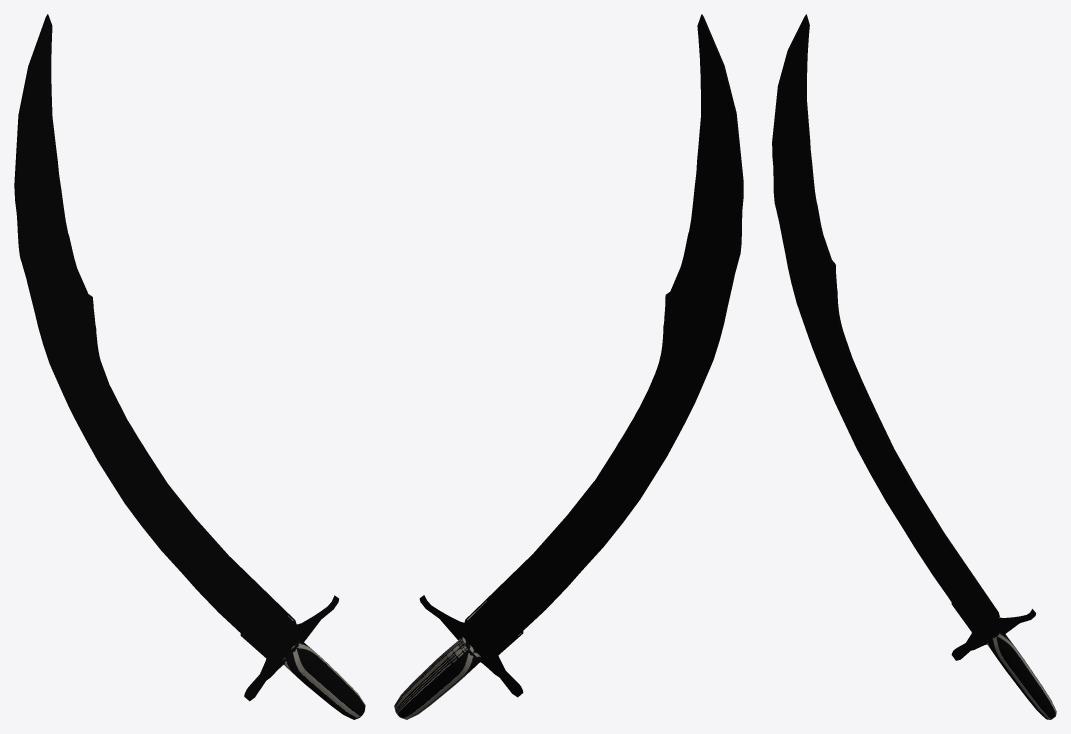
Rendered from Pirate_Sword.fbx.
3 views of the same model, side by side, from view 1: azimuth 30°, elevation 25°; view 2: azimuth 150°, elevation 25°; view 3: azimuth 330°, elevation 25° (orthographic). The views are drawn at different scales.
Parts seen in each view (by area): view 1: Cylinder.002; view 2: Cylinder.002; view 3: Cylinder.002.
Part boxes in pixels (<box>): Cylinder.002: <box>14,14,365,719</box>; Cylinder.002: <box>394,14,743,719</box>; Cylinder.002: <box>772,14,1056,719</box>.
Bounding box in the file's own units: 1825 × 3886 × 102.
1 material, 1 textured.
